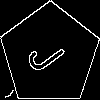J: (24, 30, 75, 77)
